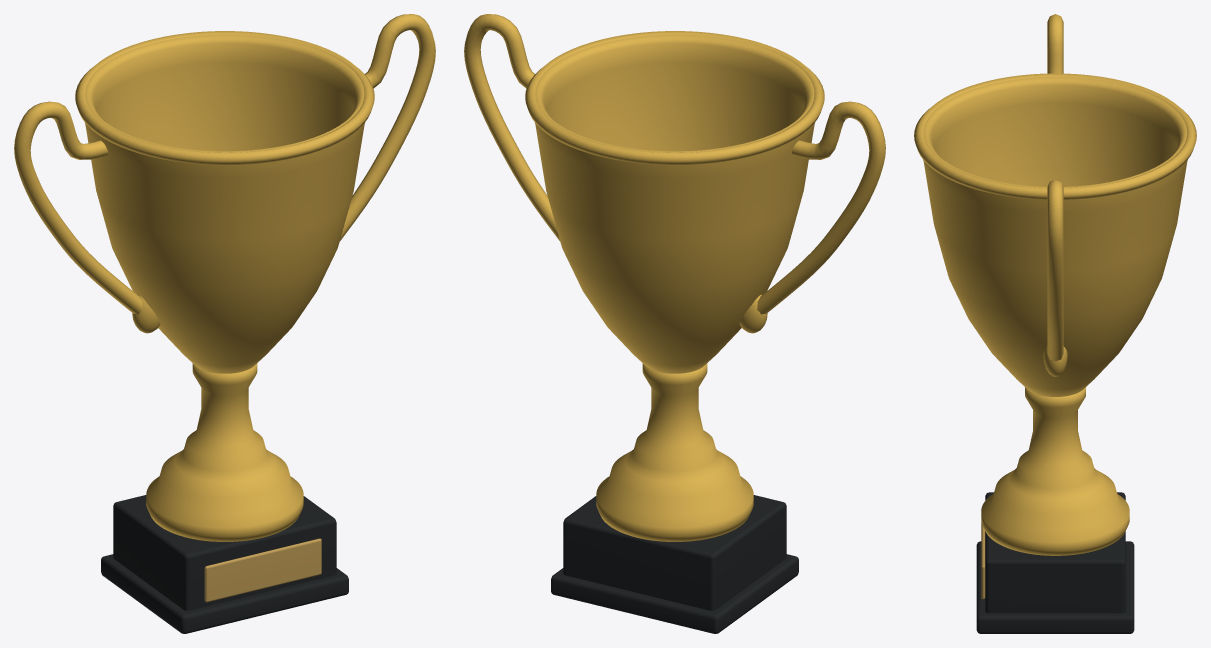
The model's file is P050_trophy_cup_photo.glb.
3 views of the same model, side by side, from view 1: azimuth 30°, elevation 25°; view 2: azimuth 150°, elevation 25°; view 3: azimuth 270°, elevation 25° (orthographic). The views are drawn at different scales.
Visible parts, largest first — view 1: Trophy_polished_warm_gold, Trophy_black_lacquer_base, Trophy_satin_engraving_plaque; view 2: Trophy_polished_warm_gold, Trophy_black_lacquer_base; view 3: Trophy_polished_warm_gold, Trophy_black_lacquer_base.
Part boxes in pixels (box(x1,y1,x2,y2)): Trophy_polished_warm_gold: box(14, 14, 435, 541); Trophy_black_lacquer_base: box(101, 495, 348, 633); Trophy_satin_engraving_plaque: box(204, 538, 321, 602); Trophy_polished_warm_gold: box(464, 14, 885, 541); Trophy_black_lacquer_base: box(551, 495, 798, 633); Trophy_polished_warm_gold: box(914, 14, 1196, 555); Trophy_black_lacquer_base: box(976, 492, 1134, 633).
Size of the model in its own units: 0.45 by 0.5391 by 0.278.
